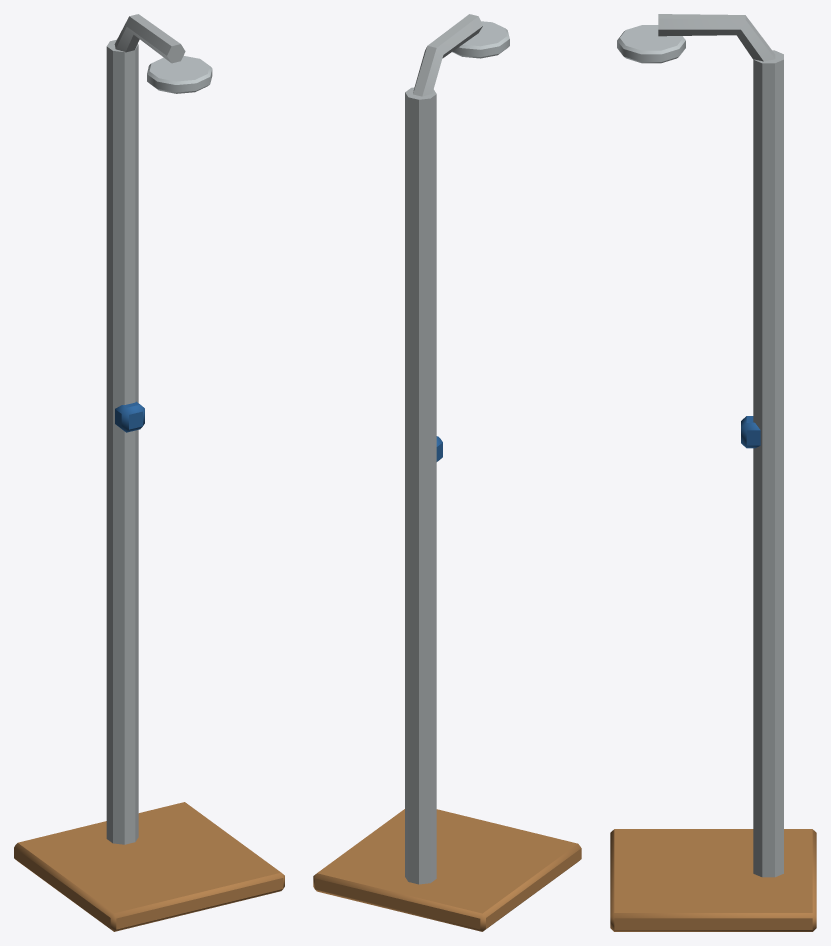
The model's file is 141_douche_plage.fbx.
3 views of the same model, side by side, from view 1: azimuth 30°, elevation 25°; view 2: azimuth 150°, elevation 25°; view 3: azimuth 270°, elevation 25° (orthographic). The views are drawn at different scales.
Parts seen in each view (by area): view 1: Douche; view 2: Douche; view 3: Douche.
Boxes of the visible parts, x1=… form: Douche: x1=14, y1=14, x2=284, y2=931; Douche: x1=313, y1=14, x2=581, y2=931; Douche: x1=610, y1=14, x2=816, y2=931.
Size of the model in its own units: 0.42 by 1.96 by 0.42.
Materials: 1 (1 with a texture image).
